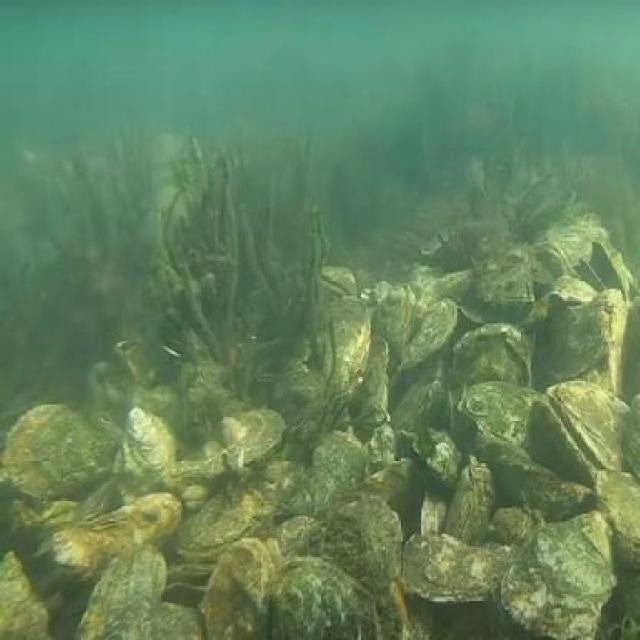Oyster-Closed: (397, 526, 519, 616), (7, 395, 107, 503), (271, 559, 397, 640), (58, 491, 172, 575), (500, 560, 618, 640), (524, 510, 640, 590), (328, 494, 422, 588), (198, 541, 282, 637), (543, 382, 632, 472), (84, 548, 170, 640), (306, 298, 364, 422), (459, 382, 545, 457), (187, 490, 263, 574), (466, 248, 546, 327), (367, 283, 424, 386), (541, 299, 610, 382), (453, 322, 533, 391), (0, 554, 62, 638), (112, 406, 178, 482), (230, 460, 308, 524), (390, 364, 454, 438), (450, 449, 500, 541), (212, 408, 292, 462), (268, 508, 328, 576), (594, 473, 640, 561), (522, 237, 584, 301), (404, 301, 465, 366), (387, 421, 459, 474), (310, 434, 370, 496), (358, 359, 392, 419), (153, 595, 198, 640), (496, 504, 544, 546), (553, 275, 599, 308)
Oyster-Open: (528, 396, 607, 488), (570, 242, 640, 302), (321, 262, 366, 298)
